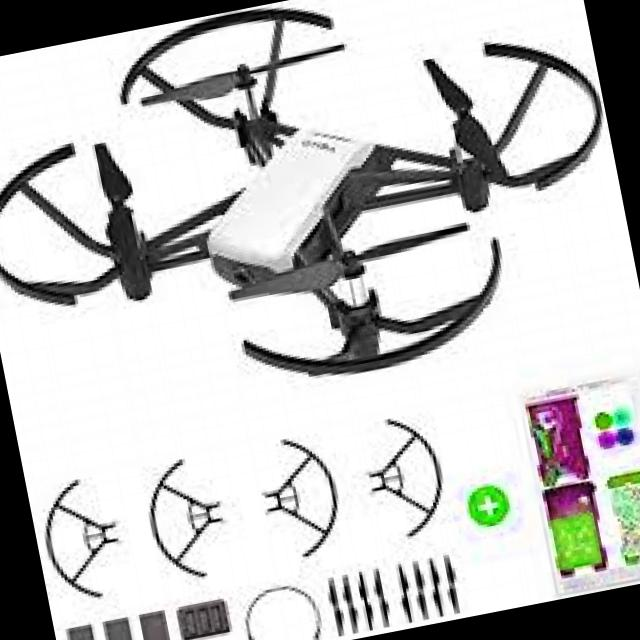drone: (0, 0, 640, 465)
